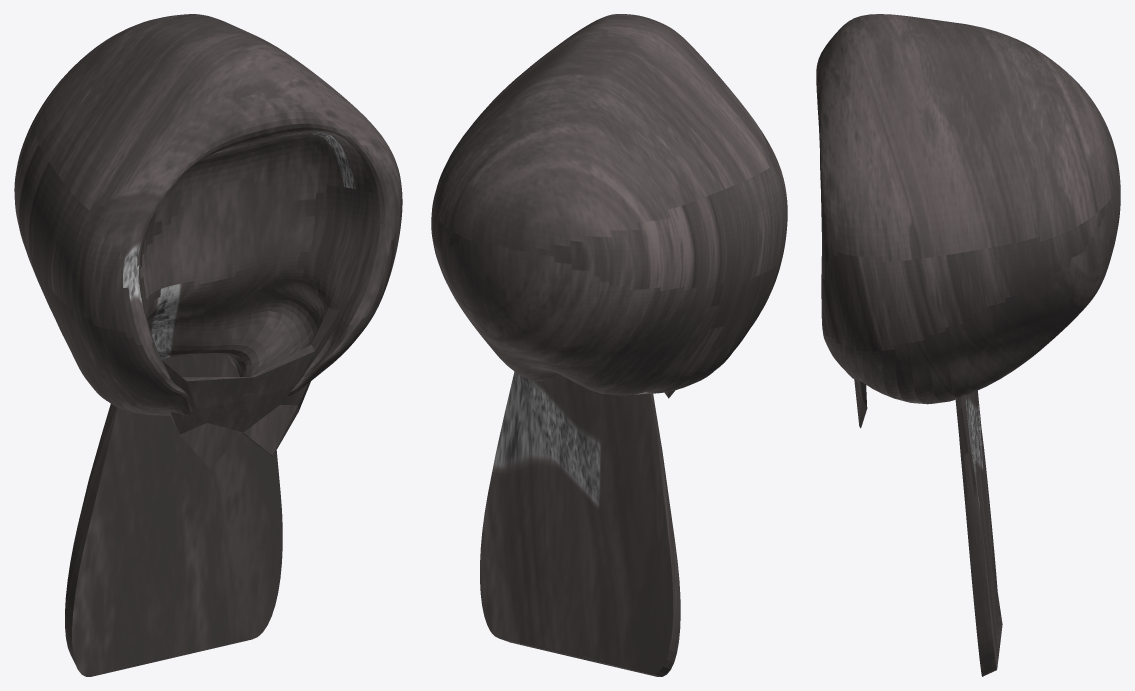
Rendered from cape.fbx.
3 views of the same model, side by side, from view 1: azimuth 30°, elevation 25°; view 2: azimuth 150°, elevation 25°; view 3: azimuth 270°, elevation 25° (orthographic). The views are drawn at different scales.
Visible parts, largest first — view 1: Clothes; view 2: Clothes; view 3: Clothes.
Part boxes in pixels (bbox=[...]): Clothes: bbox=[14, 14, 402, 676]; Clothes: bbox=[431, 14, 787, 676]; Clothes: bbox=[816, 14, 1120, 676].
Bounding box in the file's own units: 132 × 254 × 114.
